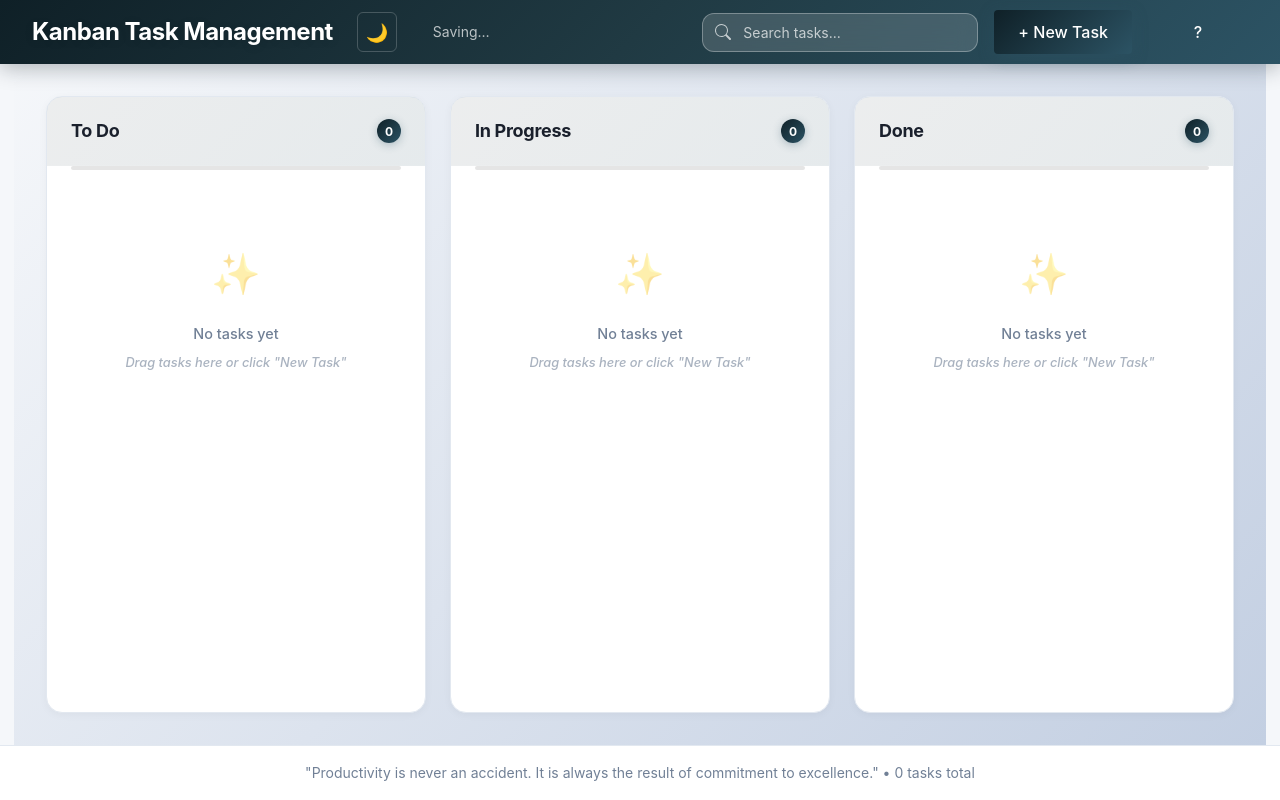
Scenario: App Integration Tests › ID Generation Fallback › uses fallback ID generation when crypto.randomUUID is unavailable
// Create a task
Click the button with aria-label "Create new task": (1063, 32) [994,10,1132,54]
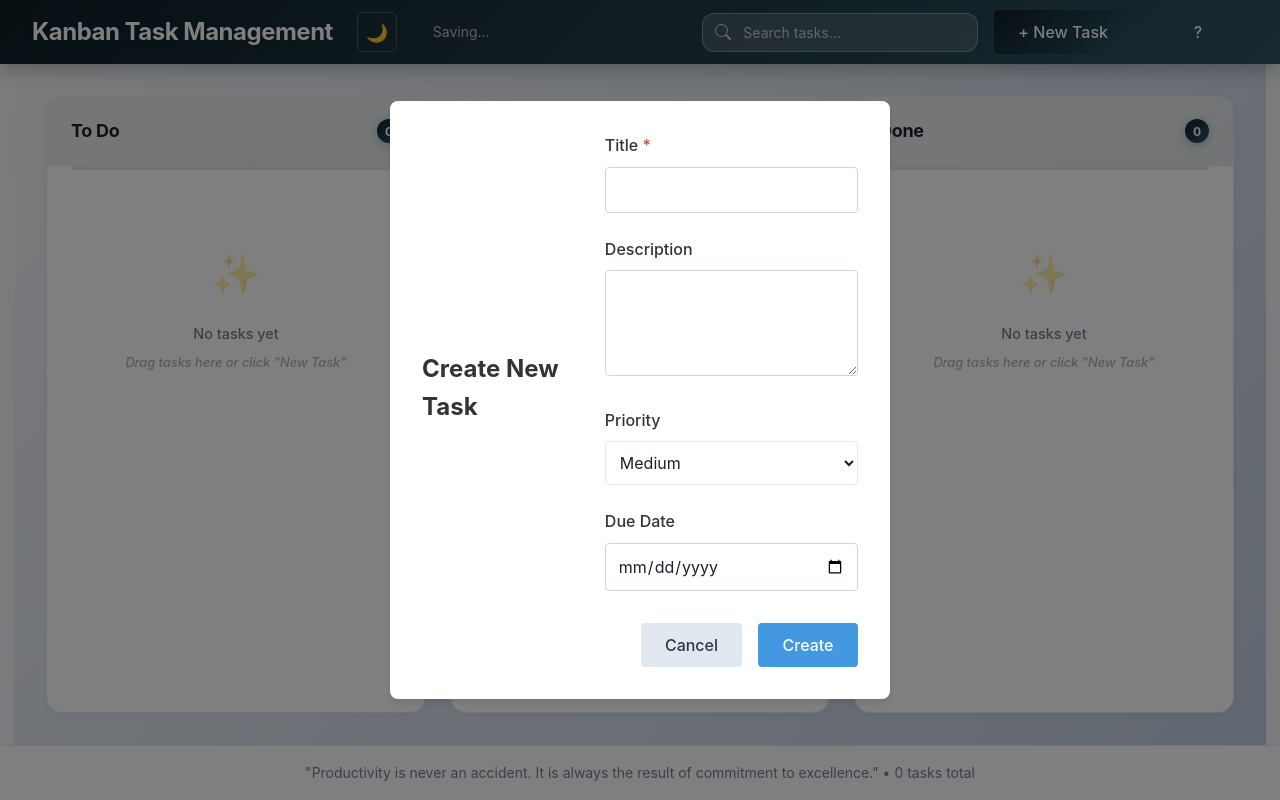
In the field labelled "Title *": (731, 190) [605,167,858,213], type "Fallback ID Task"
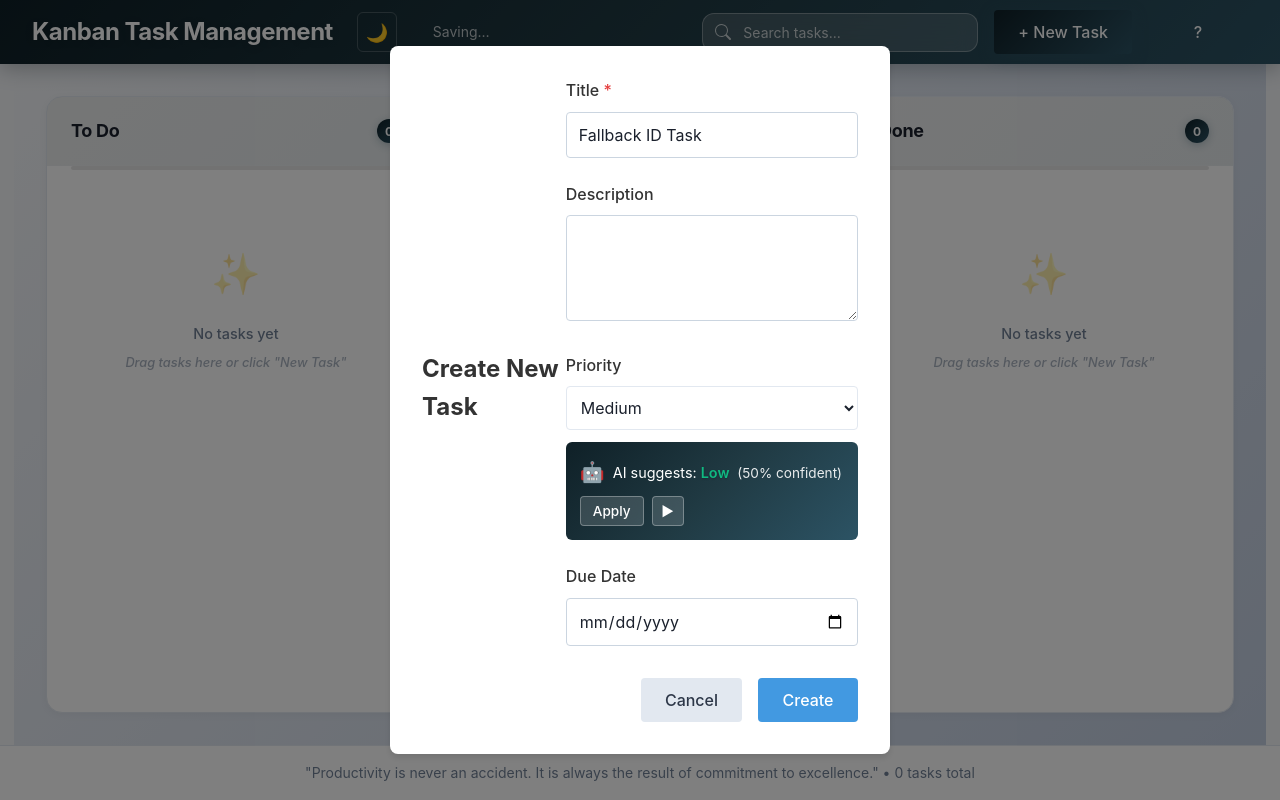
Click the button with aria-label "Create Task": (808, 700) [758,678,858,722]
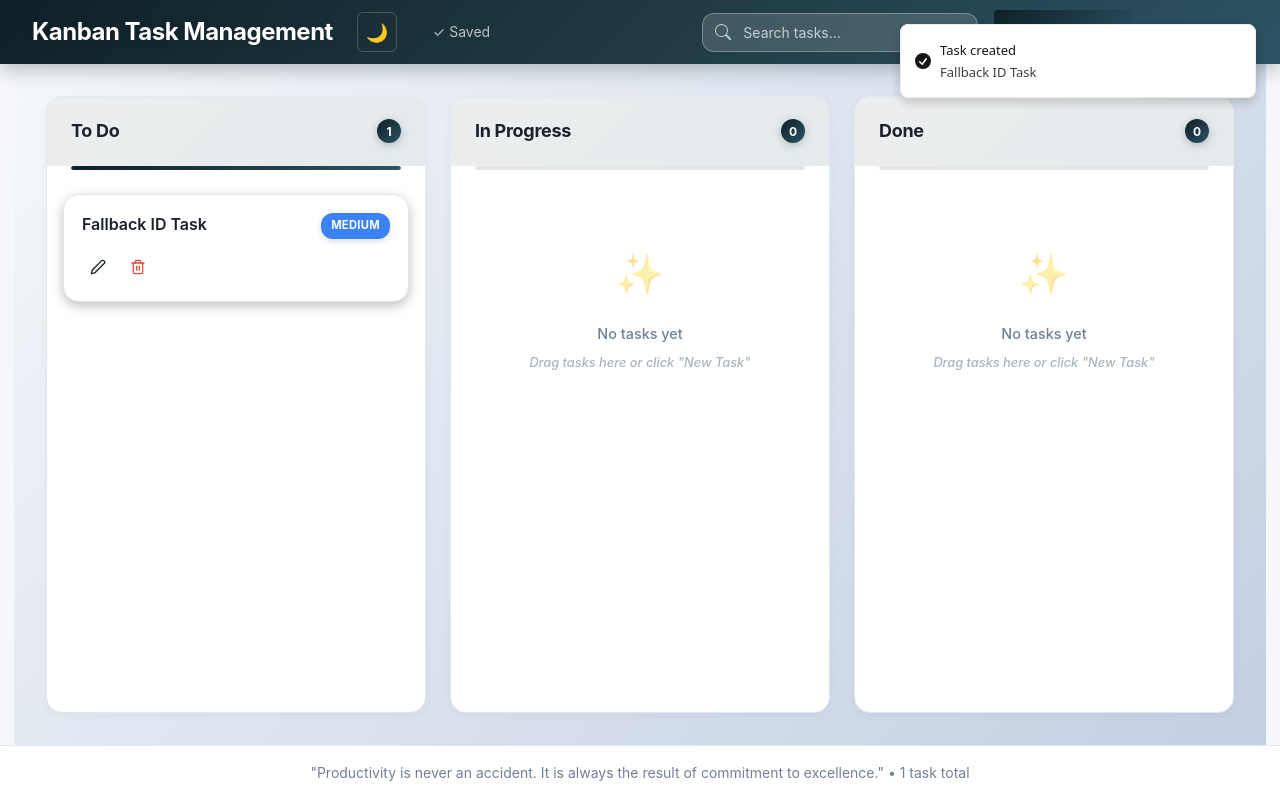
Expected: the heading "Fallback ID Task" is shown, [82,214,207,234]
